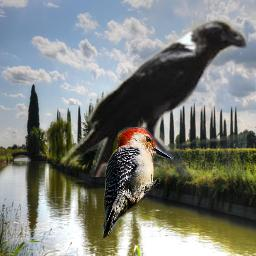Crow: (56, 14, 247, 177)
Woodpecker: (103, 127, 175, 238)
